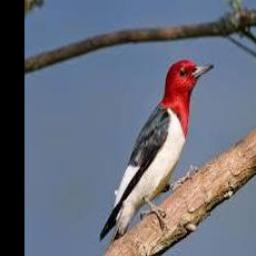Woodpecker: (99, 59, 214, 249)
